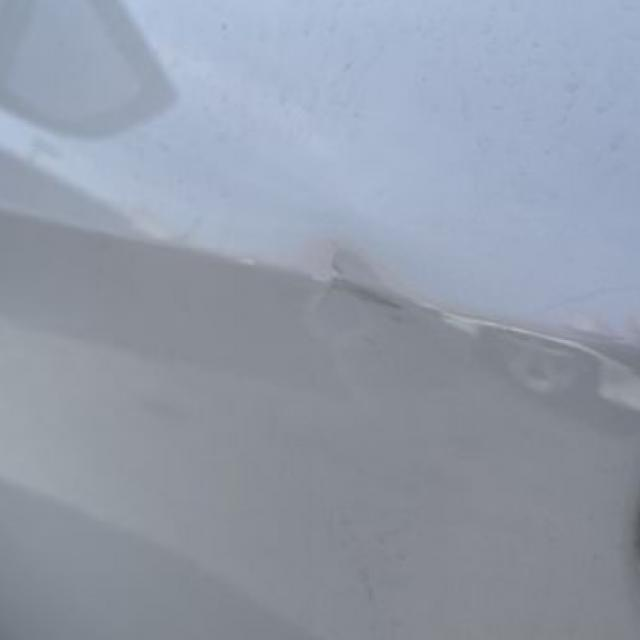dents: (289, 215, 412, 358)
